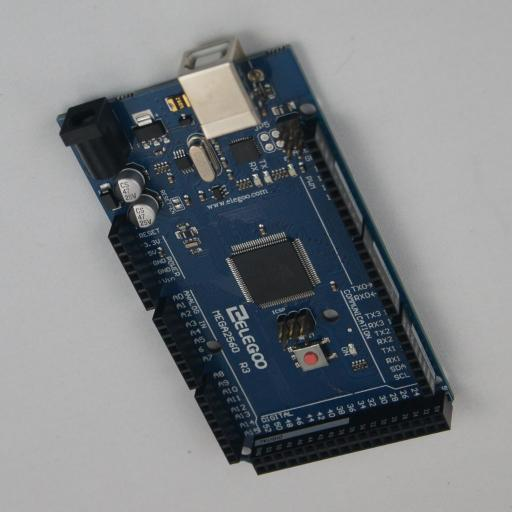Arduino Mega 2560 -Blue-: (56, 40, 454, 475)
